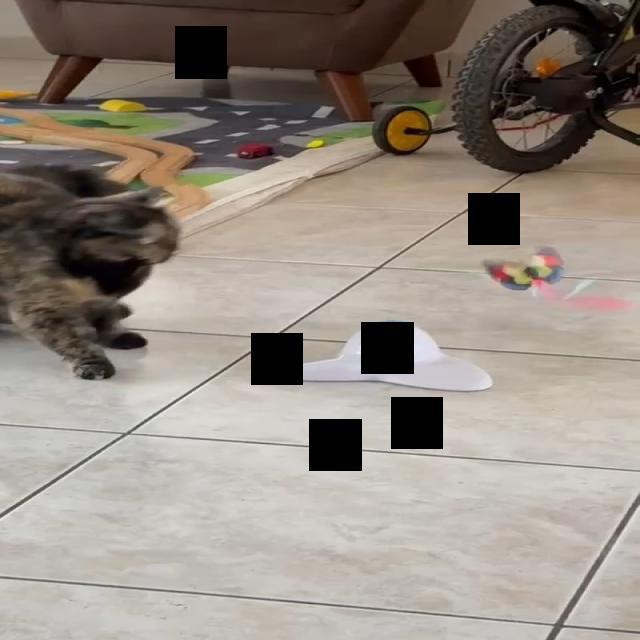authorized: (0, 162, 180, 380)
